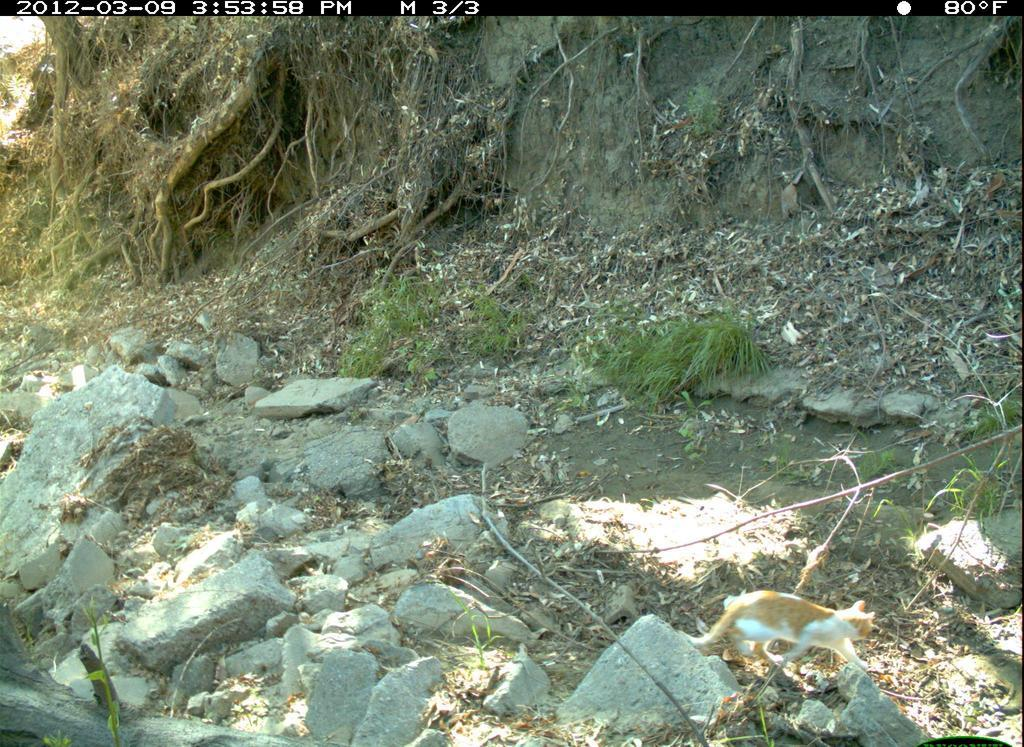cat: (679, 585, 890, 689)
